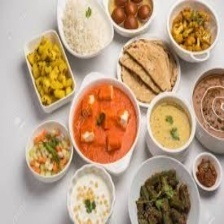sabzi: (21, 34, 81, 107)
